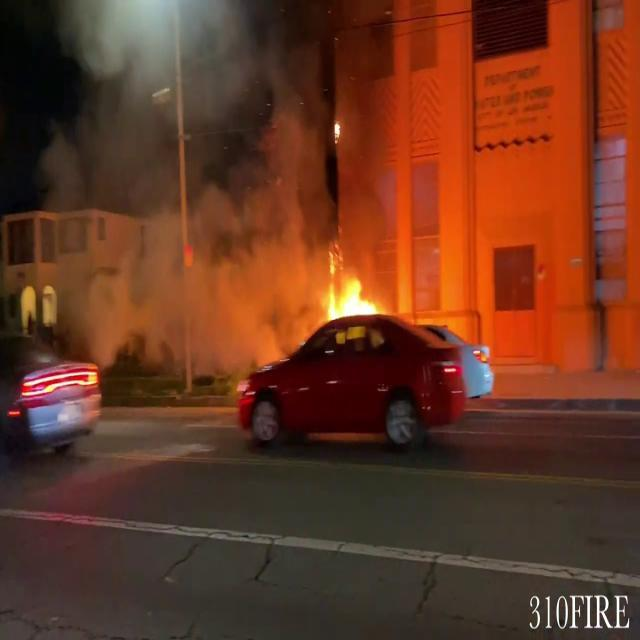Fire: (312, 244, 388, 332)
Smoke: (13, 0, 402, 356)
